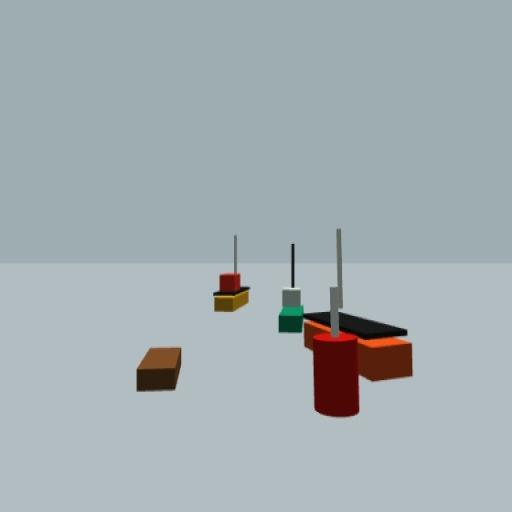debris_container: (135, 344, 183, 394)
fishing_boat: (277, 241, 304, 332)
floating_obstacle: (312, 288, 360, 418)
vessel: (212, 238, 250, 313)
